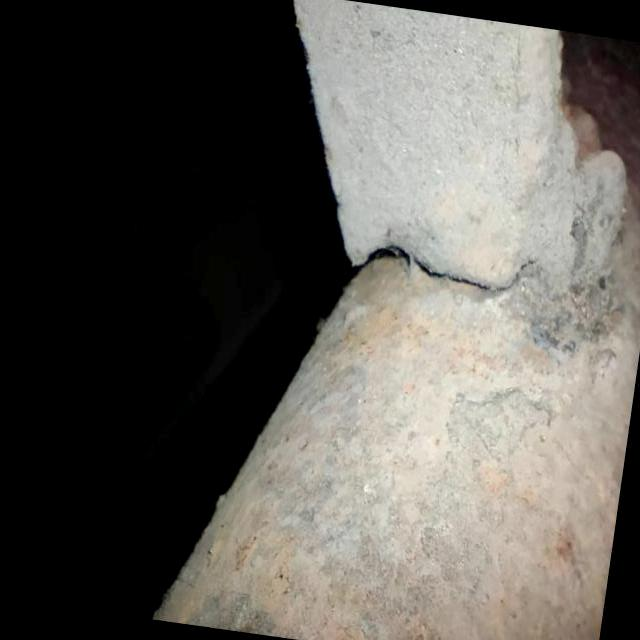defect: (348, 242, 537, 295)
